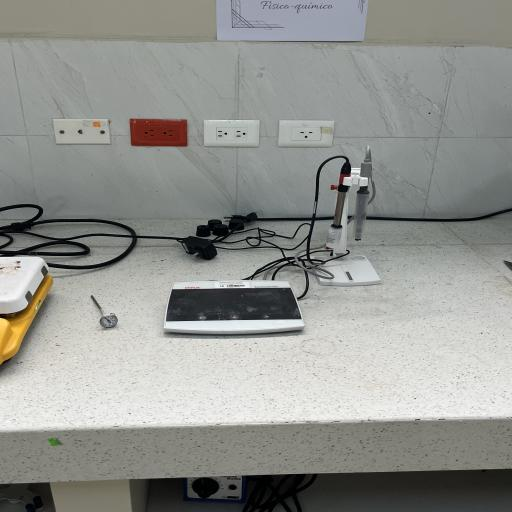Phmetro_Ohaus: (162, 274, 310, 342)
